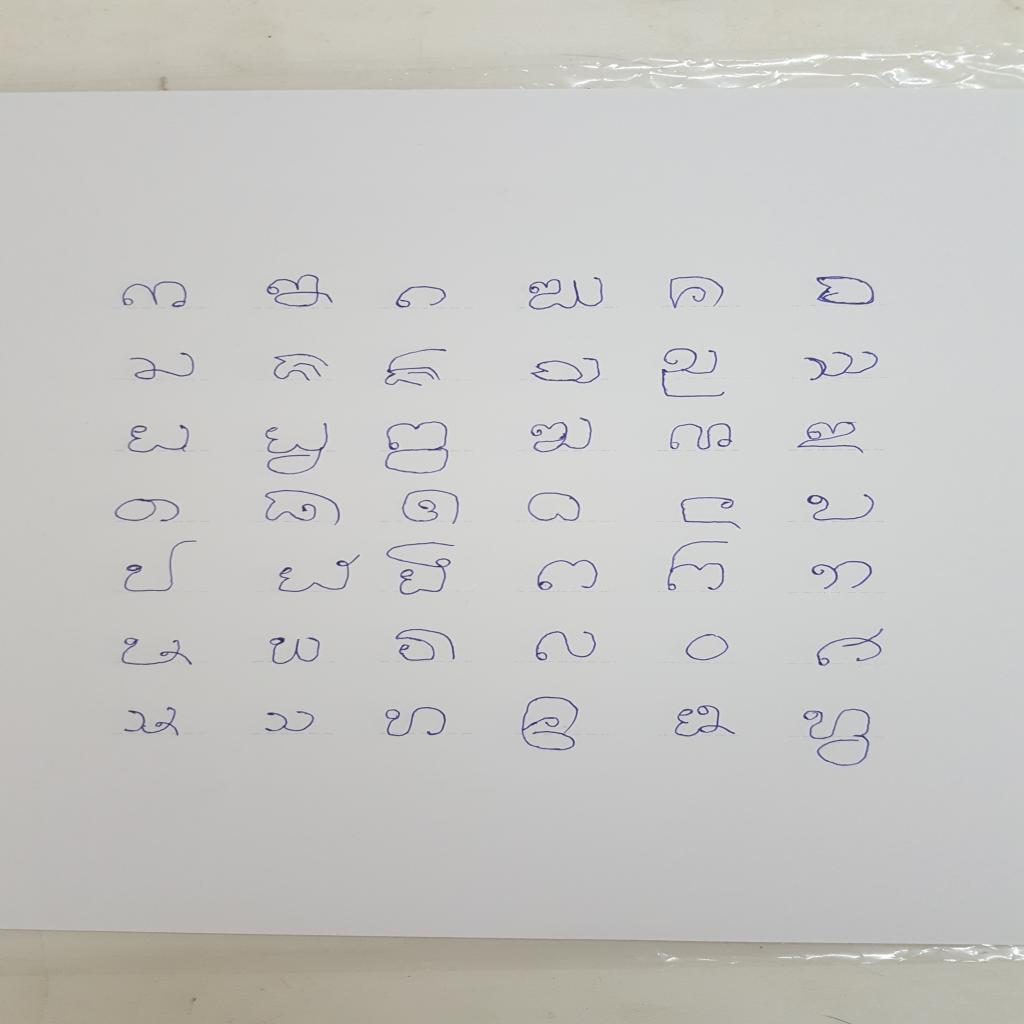LN001: (115, 277, 194, 312)
LN003: (393, 284, 453, 312)
LN004: (525, 275, 610, 314)
LN005: (662, 273, 731, 313)
LN007: (122, 349, 202, 384)
LN008: (268, 350, 333, 385)
LN013: (124, 422, 196, 457)
LN014: (261, 421, 336, 479)
LN019: (108, 495, 187, 527)
LN020: (260, 488, 348, 530)
LN021: (397, 487, 468, 529)
LN022: (523, 489, 585, 526)
LN023: (675, 495, 750, 534)
LN024: (800, 491, 882, 525)
LN025: (119, 538, 202, 597)
LN027: (384, 541, 462, 599)
LN028: (530, 556, 606, 595)
LN029: (661, 539, 738, 595)
LN030: (809, 559, 879, 595)
LN031: (116, 635, 198, 670)
LN032: (267, 635, 327, 669)
LN034: (532, 629, 603, 665)
LN035: (681, 631, 737, 665)
LN036: (811, 625, 893, 671)
LN037: (118, 704, 188, 742)
LN038: (259, 708, 323, 736)
LN039: (378, 704, 455, 741)
LN040: (516, 694, 586, 756)
LN041: (667, 702, 746, 741)
LN042: (795, 705, 878, 771)
